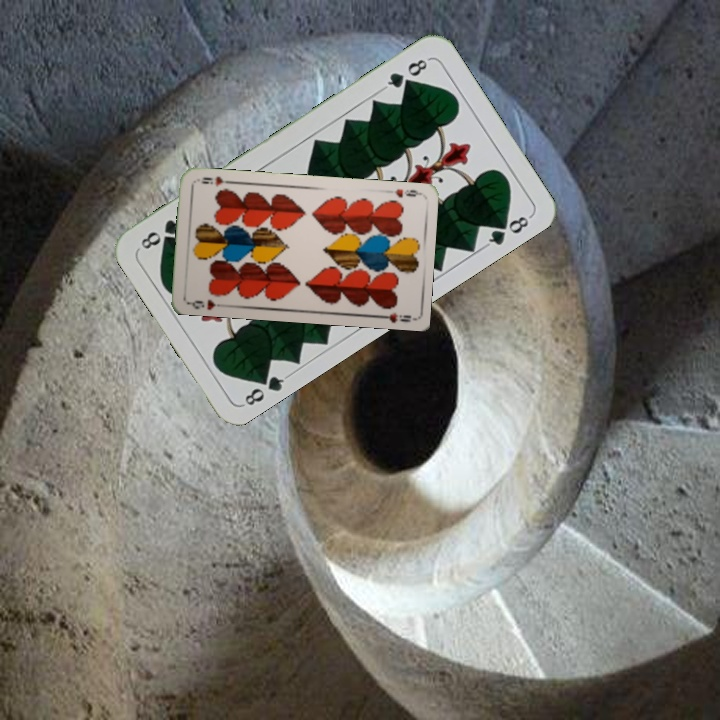G8: (239, 367, 292, 409), (379, 54, 432, 92)
H9: (185, 295, 226, 312), (391, 185, 423, 200)
